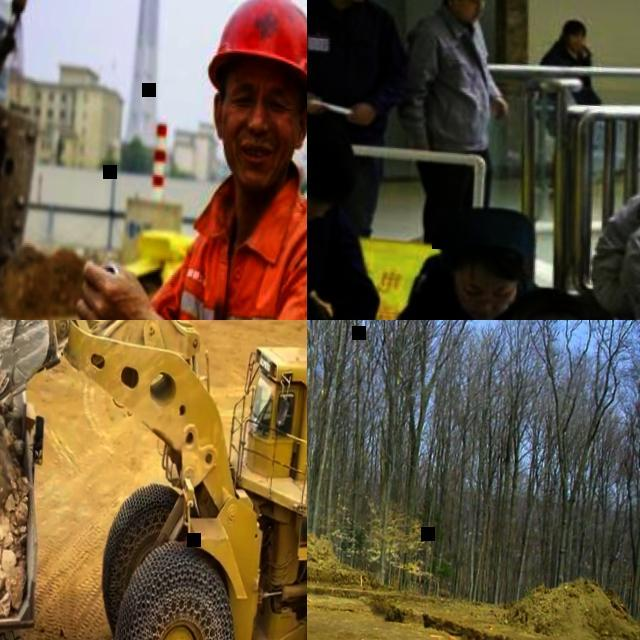Weapon: (335, 4, 640, 310), (23, 11, 310, 316)
objects: (146, 9, 328, 204)
